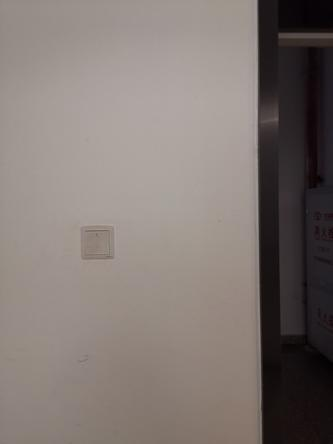switch: (82, 225, 115, 259)
